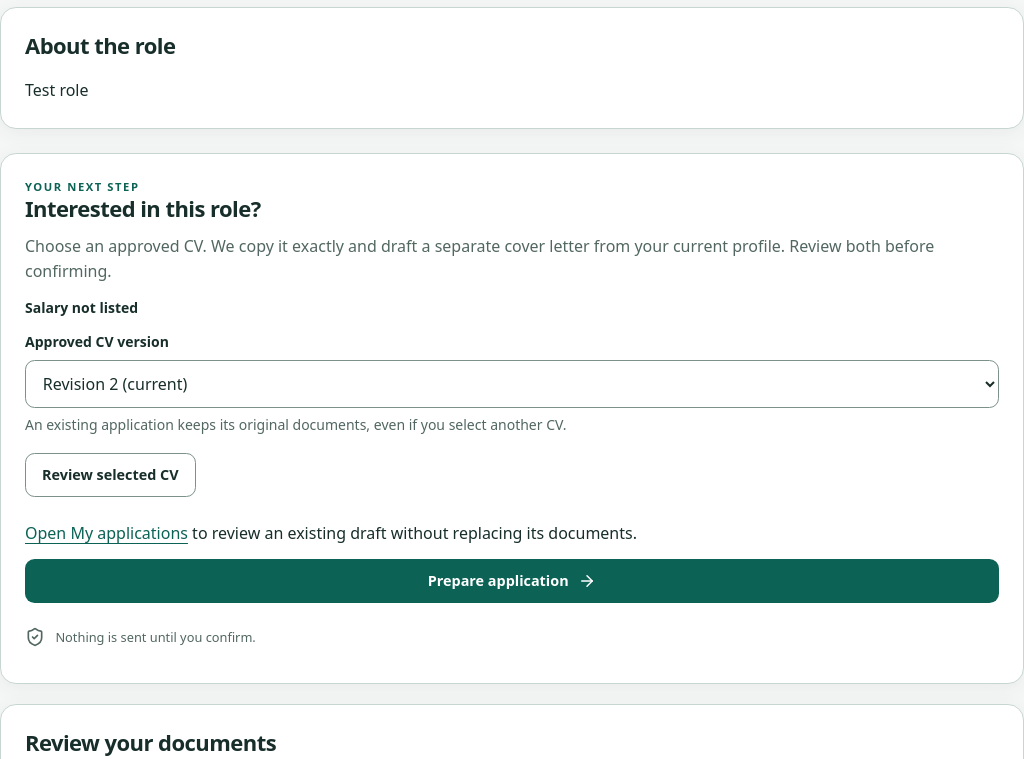
Test: prepares a selected approval then opens real application review without sending
This screenshot has width=1024, height=759.
(page scrolled)
Select "Revision 1 (earlier approved version)" in the dropdown labelled "Approved CV version": (512, 384) [25,360,999,408]
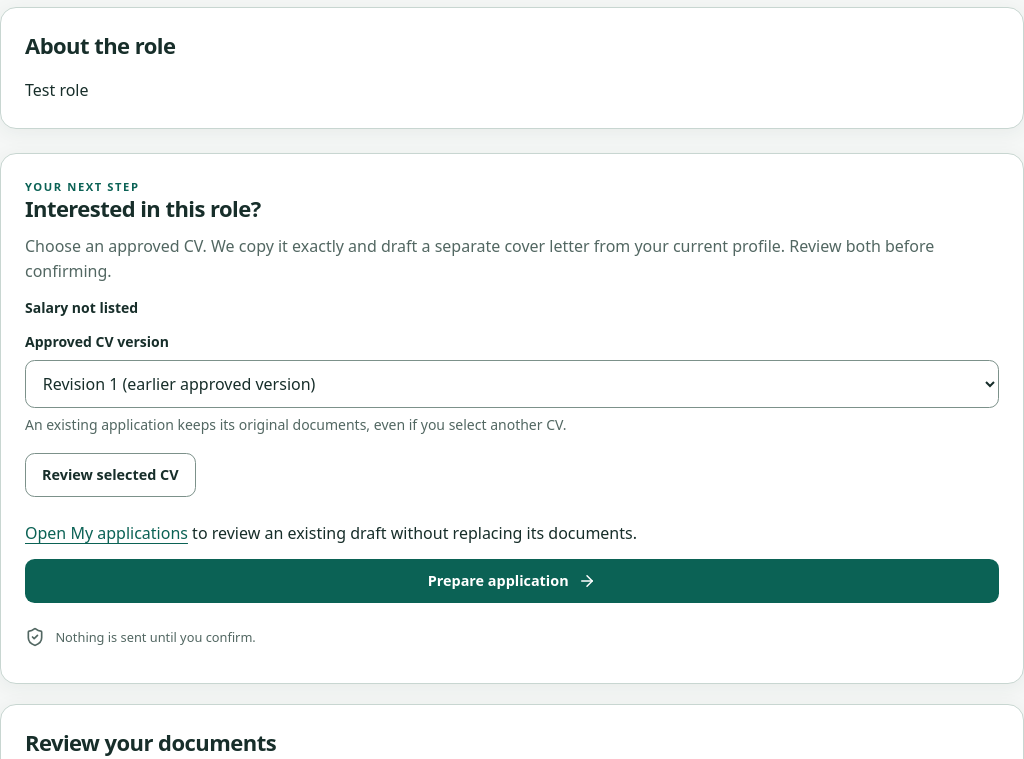
Click the button "Prepare application": (512, 581) [25,559,999,603]
(page scrolled)
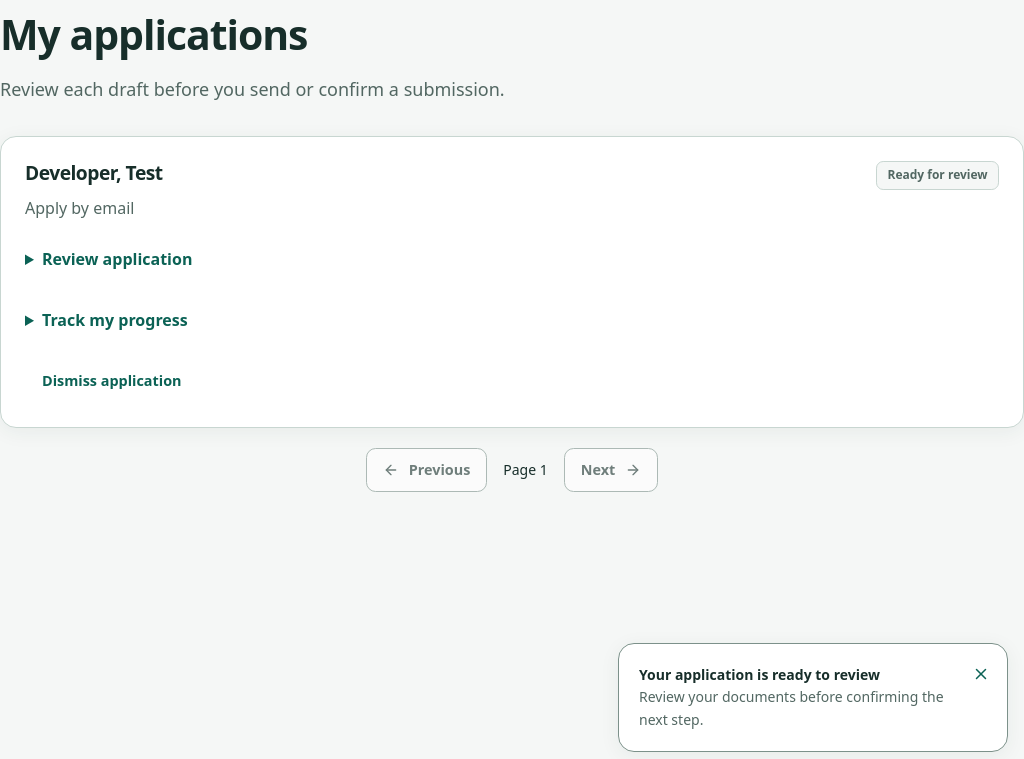
Click the heading "Review application": (117, 259) [42,248,192,270]
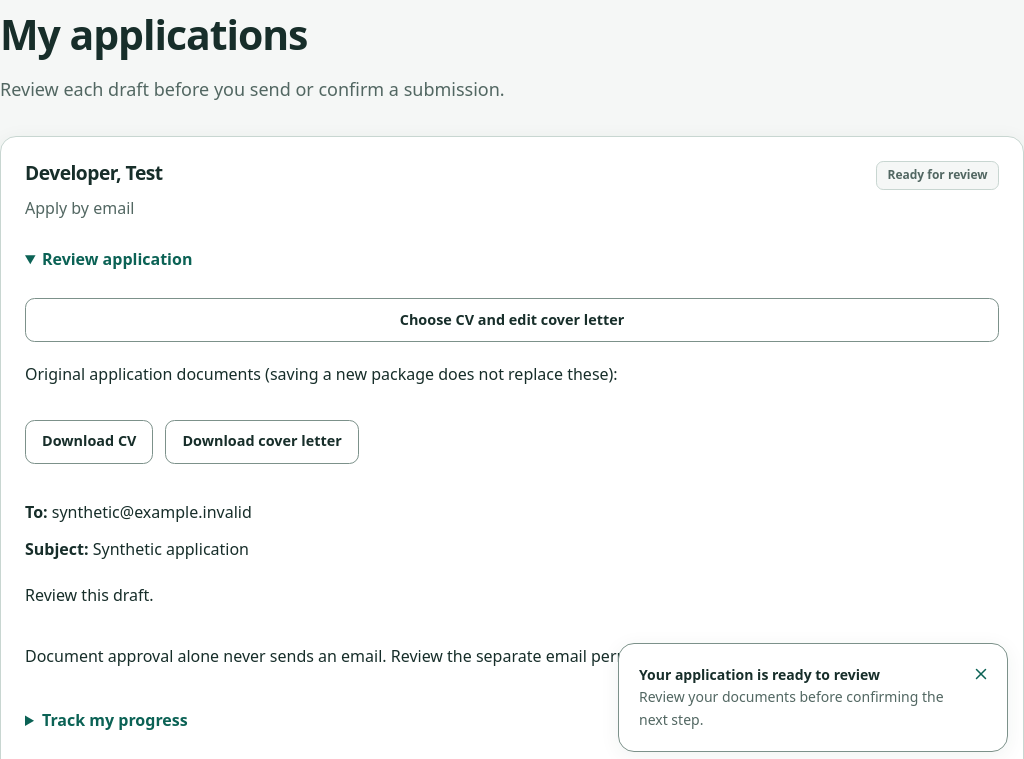
Now the text "Review this draft." is shown, box [25,584,154,606]
Now the text "Document approval alone never sends an email" is shown, box [25,645,933,667]
Now the button "Download CV" is shown, box [25,420,153,464]
